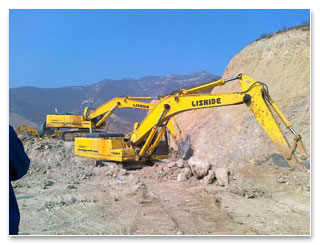excavator: (65, 73, 308, 171), (35, 96, 195, 160)
